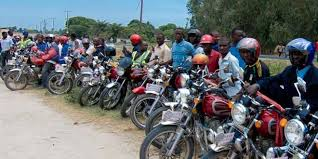helmet: (280, 34, 318, 73), (231, 33, 265, 71), (129, 33, 139, 48)
